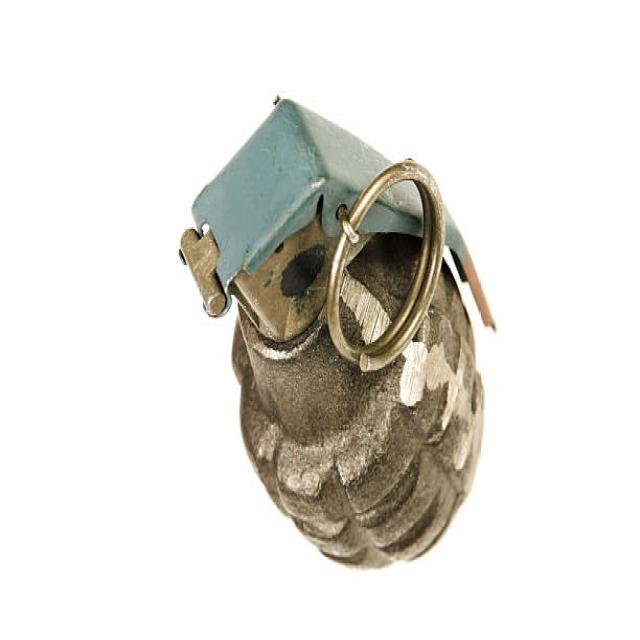grenade: (176, 86, 501, 577)
